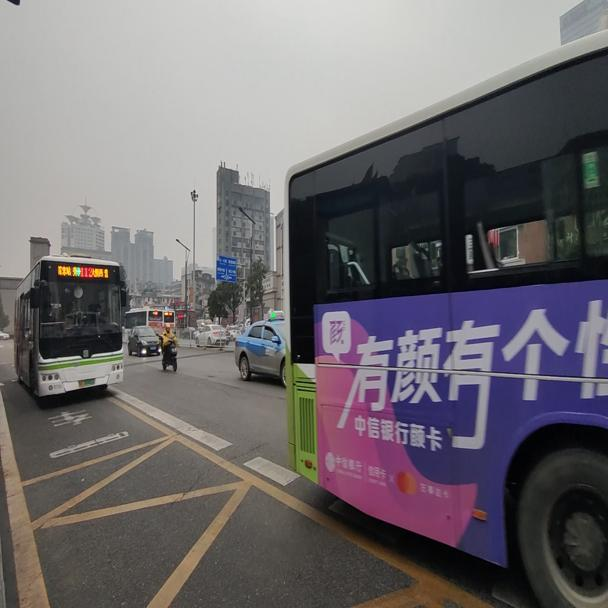bus: (282, 31, 605, 603), (12, 247, 125, 396), (126, 301, 176, 342)
screen: (78, 262, 92, 279)
